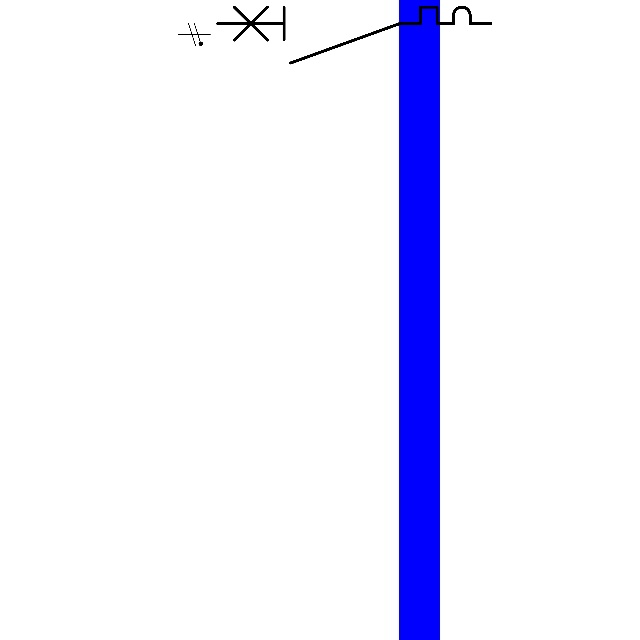interruptor_termomagnetico: (210, 0, 498, 70)
